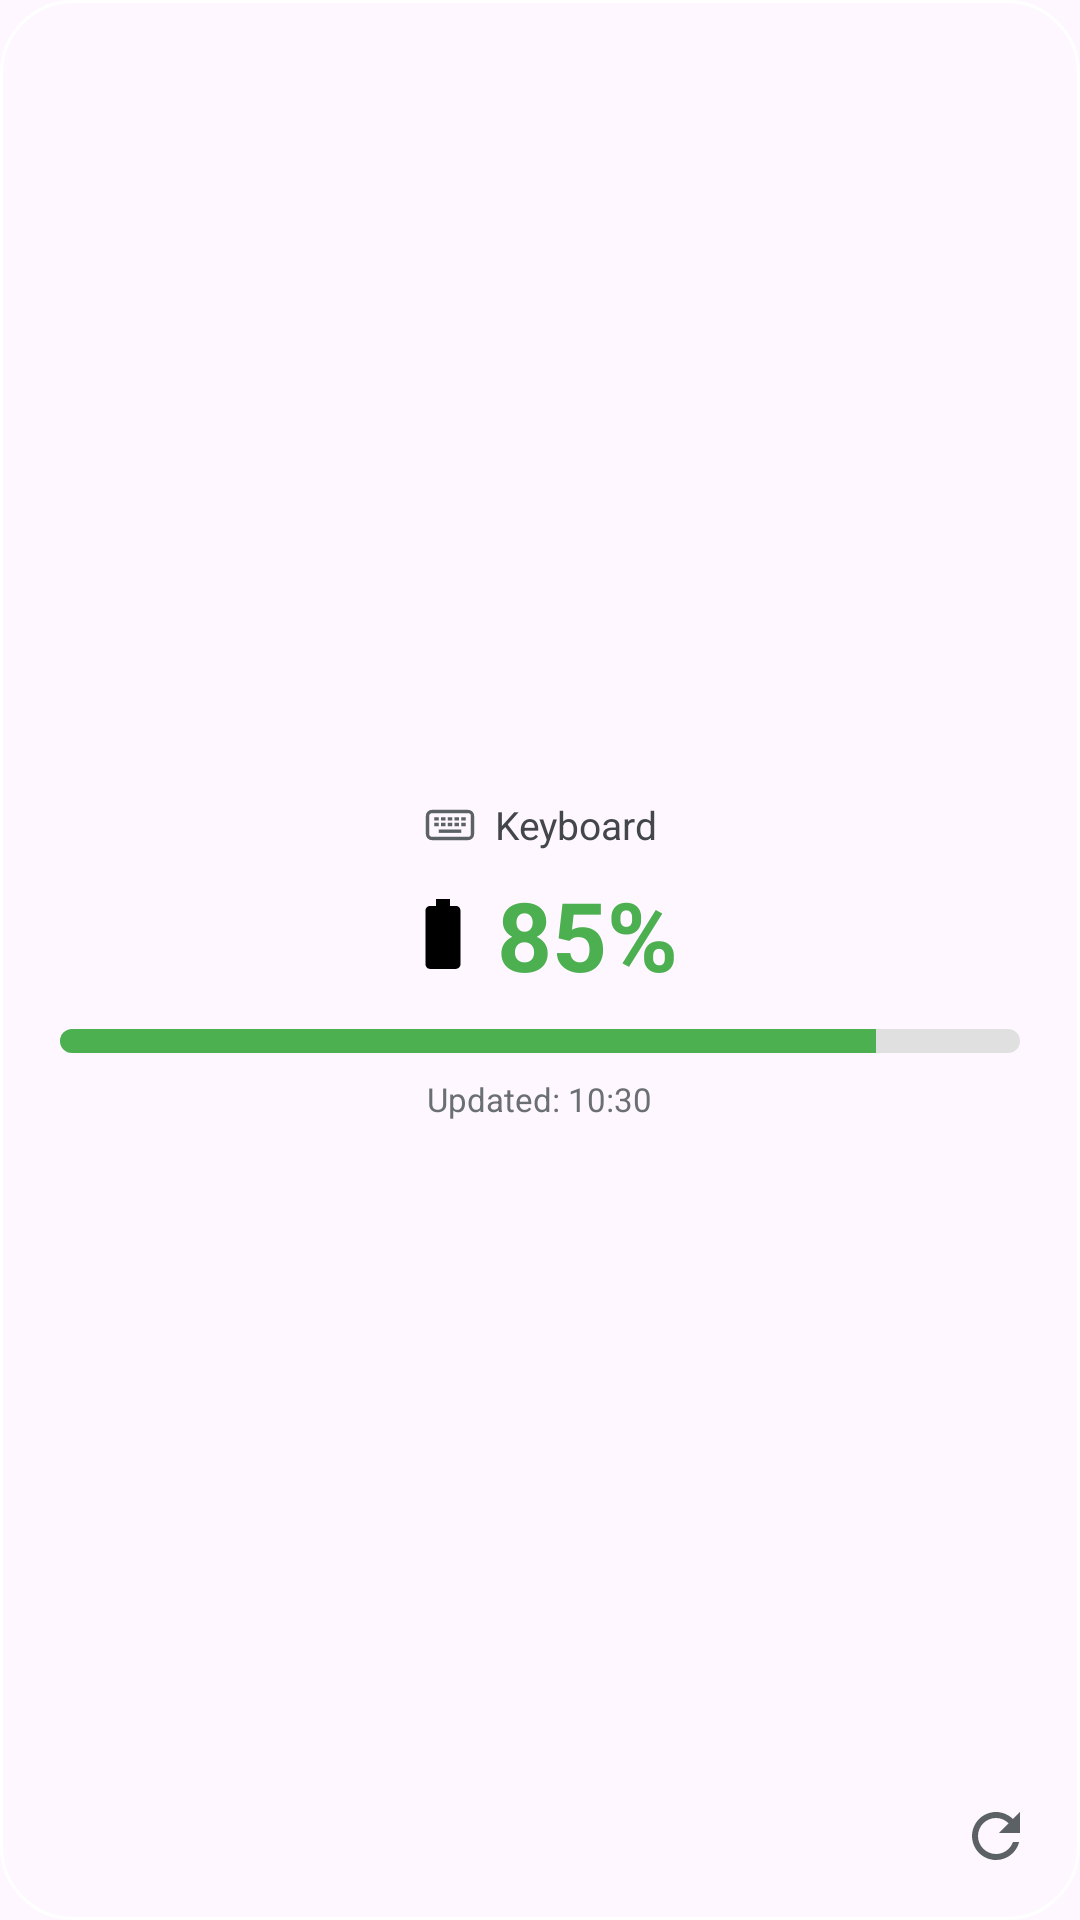

Named icons in this screenshot (1080×1920) and their centers, (x=x, y=y):
Battery: (x=443, y=934)
Refresh: (x=996, y=1836)
